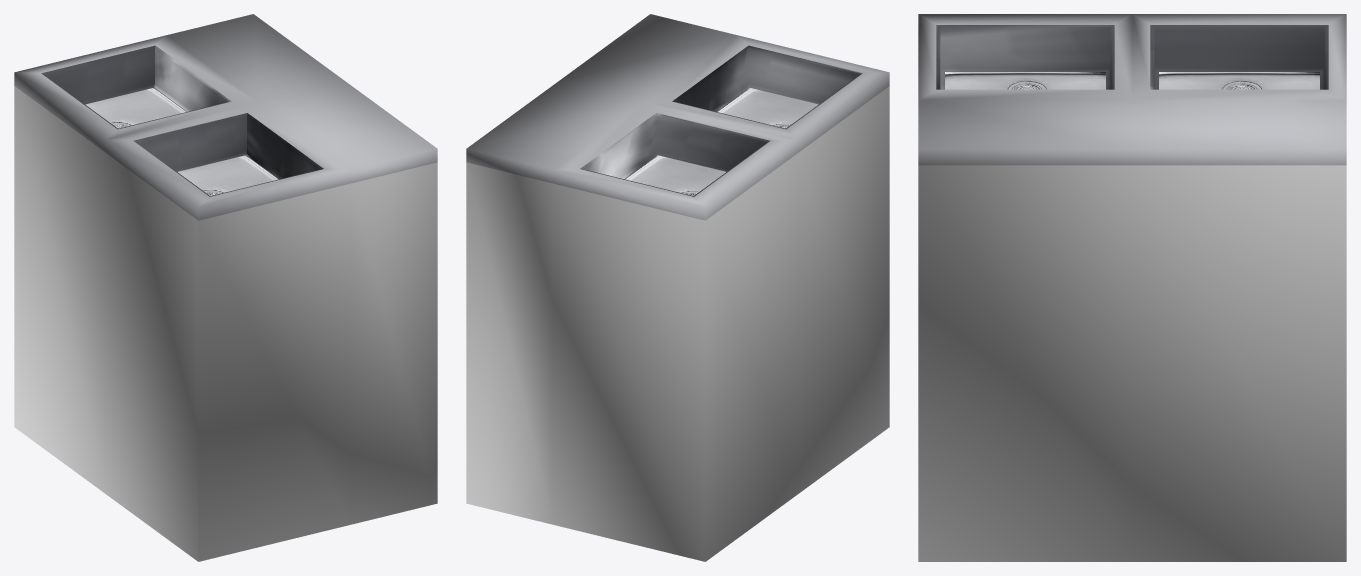
Rendered from sink.glb.
The picture shows the model from 3 angles, left to right: view 1: azimuth 30°, elevation 25°; view 2: azimuth 150°, elevation 25°; view 3: azimuth 270°, elevation 25°; orthographic projection. The views are drawn at different scales.
Parts seen in each view (by area): view 1: Sink; view 2: Sink; view 3: Sink.
Part boxes in pixels (bbox=[...]): Sink: bbox=[14, 14, 437, 561]; Sink: bbox=[466, 14, 889, 561]; Sink: bbox=[918, 14, 1346, 561].
Size of the model in its own units: 0.6 by 0.85 by 0.8.
1 material, 1 textured.
